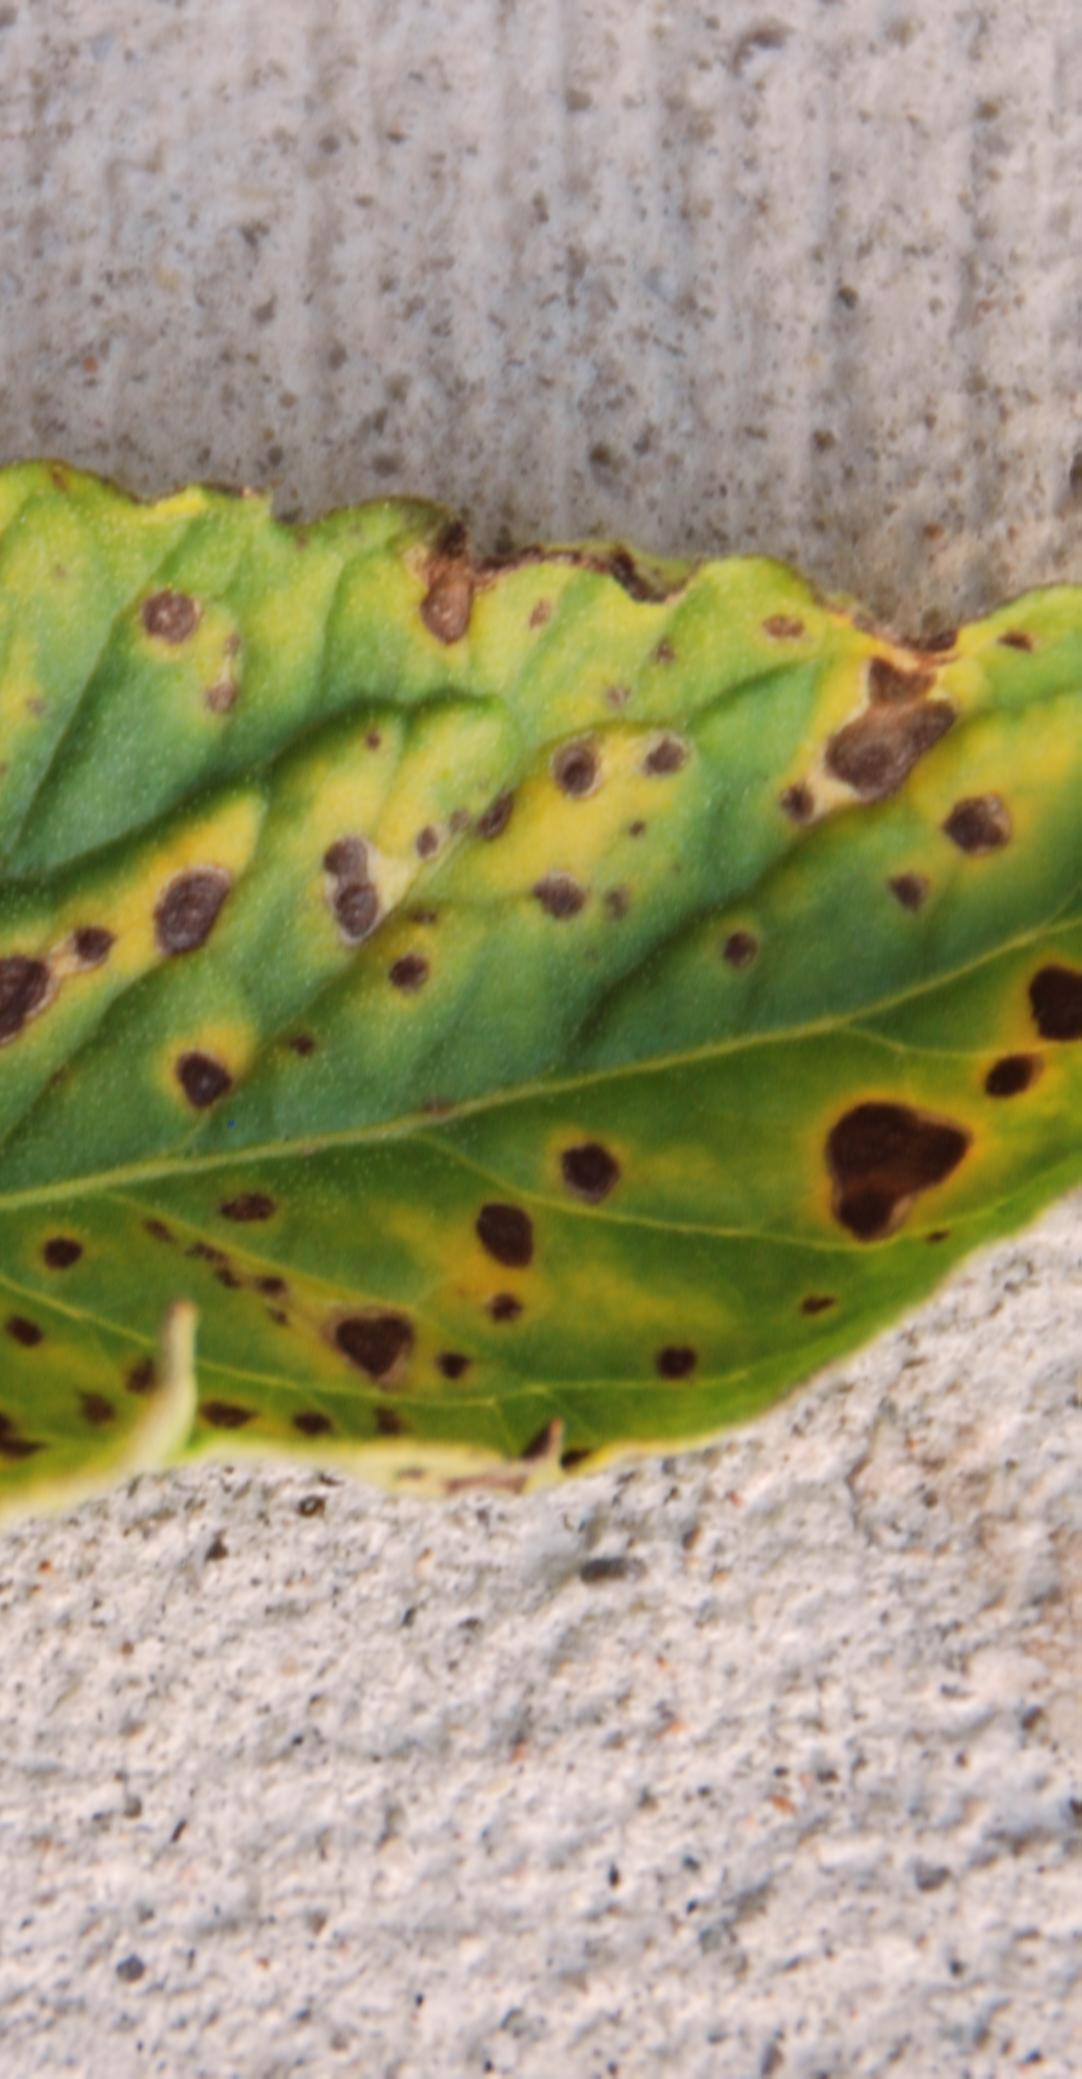Tomato Early blight leaf: (0, 391, 1082, 1581)
